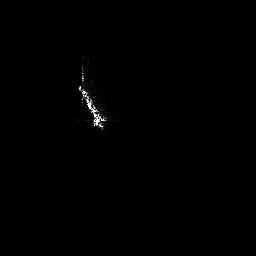ship: (76, 61, 109, 131)
